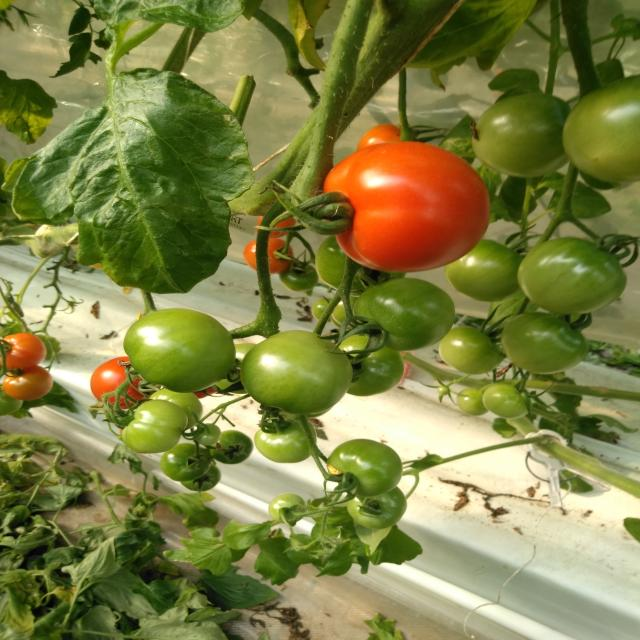c-half-riped: (2, 366, 54, 401), (0, 332, 47, 370)
c-riped: (322, 140, 491, 272), (90, 356, 161, 409), (243, 238, 294, 274), (357, 122, 417, 150)
c-unriped: (123, 308, 236, 393), (240, 330, 352, 415), (516, 237, 627, 315), (470, 93, 571, 177), (562, 74, 639, 182), (353, 277, 455, 351), (315, 234, 407, 298), (501, 312, 590, 374), (443, 239, 524, 302), (326, 438, 404, 497), (336, 333, 404, 396), (122, 399, 188, 454), (439, 325, 504, 375), (254, 416, 317, 463), (347, 486, 407, 529), (147, 388, 204, 431), (215, 343, 257, 394), (161, 443, 213, 481), (482, 382, 532, 419), (208, 430, 254, 464), (268, 492, 308, 524), (179, 463, 220, 492), (279, 262, 318, 292), (456, 389, 488, 416), (195, 423, 221, 445), (438, 386, 449, 395)
